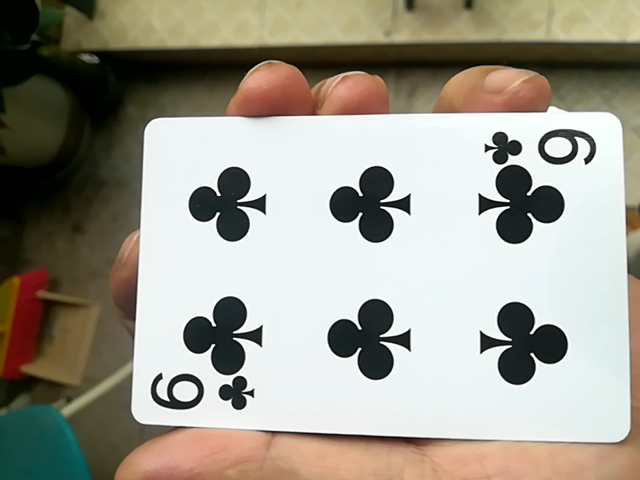mh 6: (124, 104, 625, 453)
